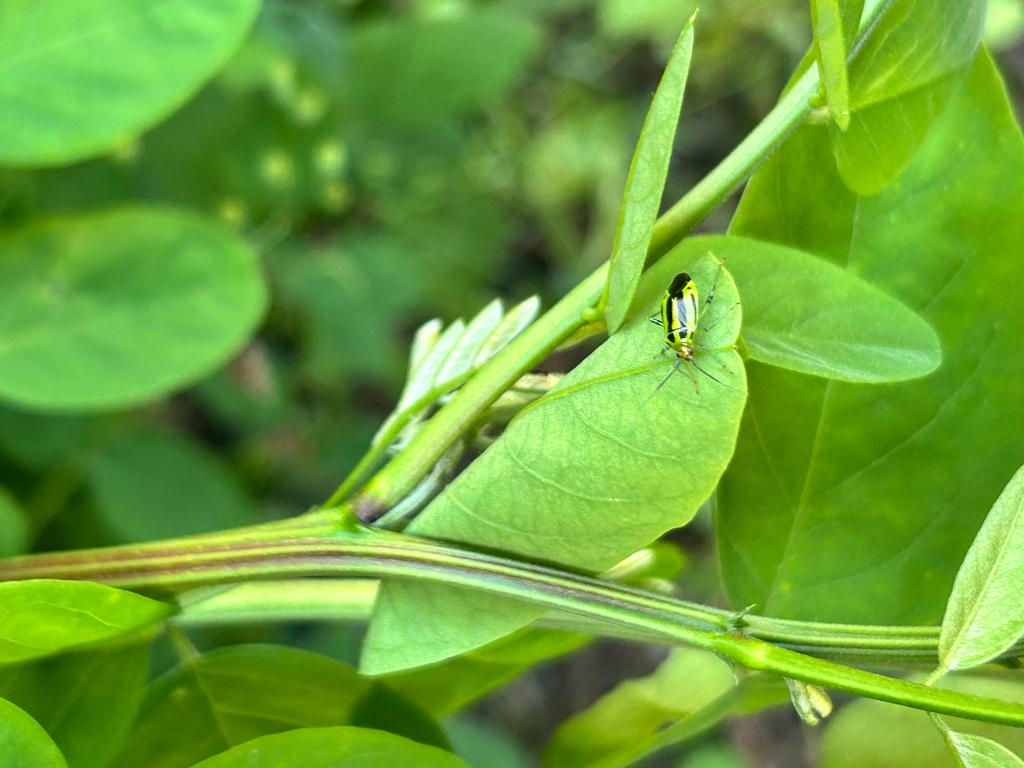plant_bugs: (631, 242, 752, 424)
